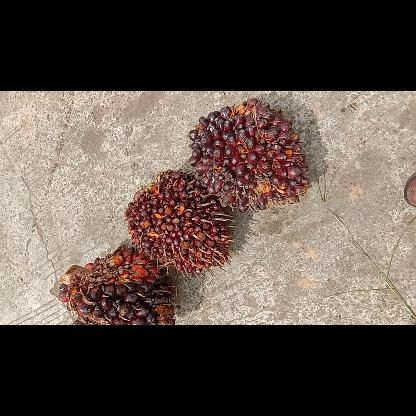Kurang masak: (186, 100, 310, 212), (126, 170, 236, 274)
TBS masak: (56, 246, 174, 324)
